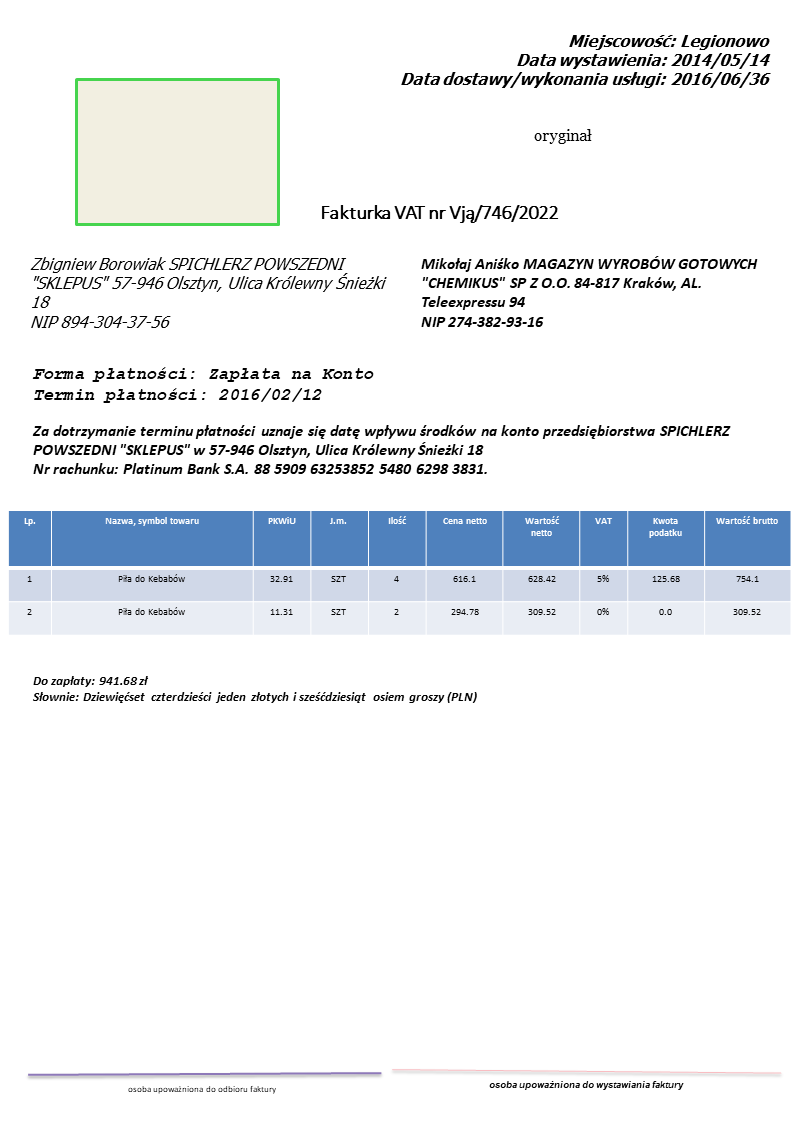Table: (7, 509, 792, 637)
TextBox: (29, 421, 734, 480), (26, 250, 386, 332), (418, 254, 761, 332), (395, 29, 773, 90), (30, 672, 480, 707), (31, 365, 379, 407), (318, 200, 561, 227), (485, 1076, 684, 1093), (124, 1082, 278, 1098), (530, 126, 594, 146)
